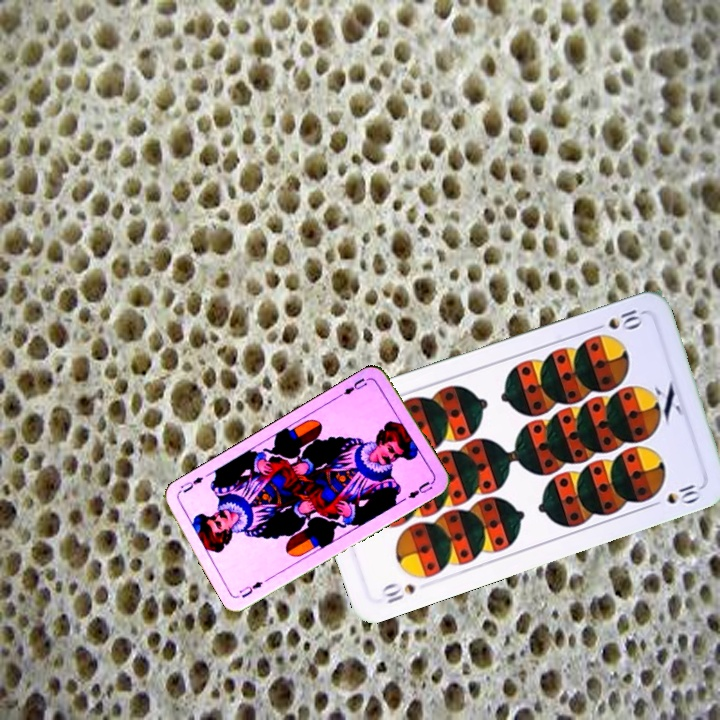EU: (335, 373, 373, 399), (235, 577, 265, 601)
S10: (588, 305, 646, 334), (382, 580, 418, 606)
